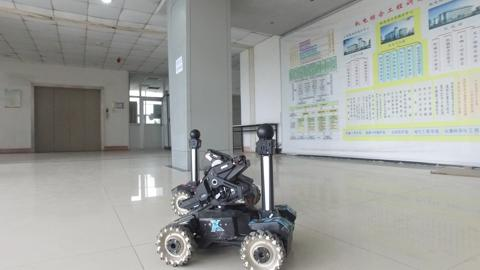chariot: (156, 121, 298, 267), (167, 125, 258, 214)
